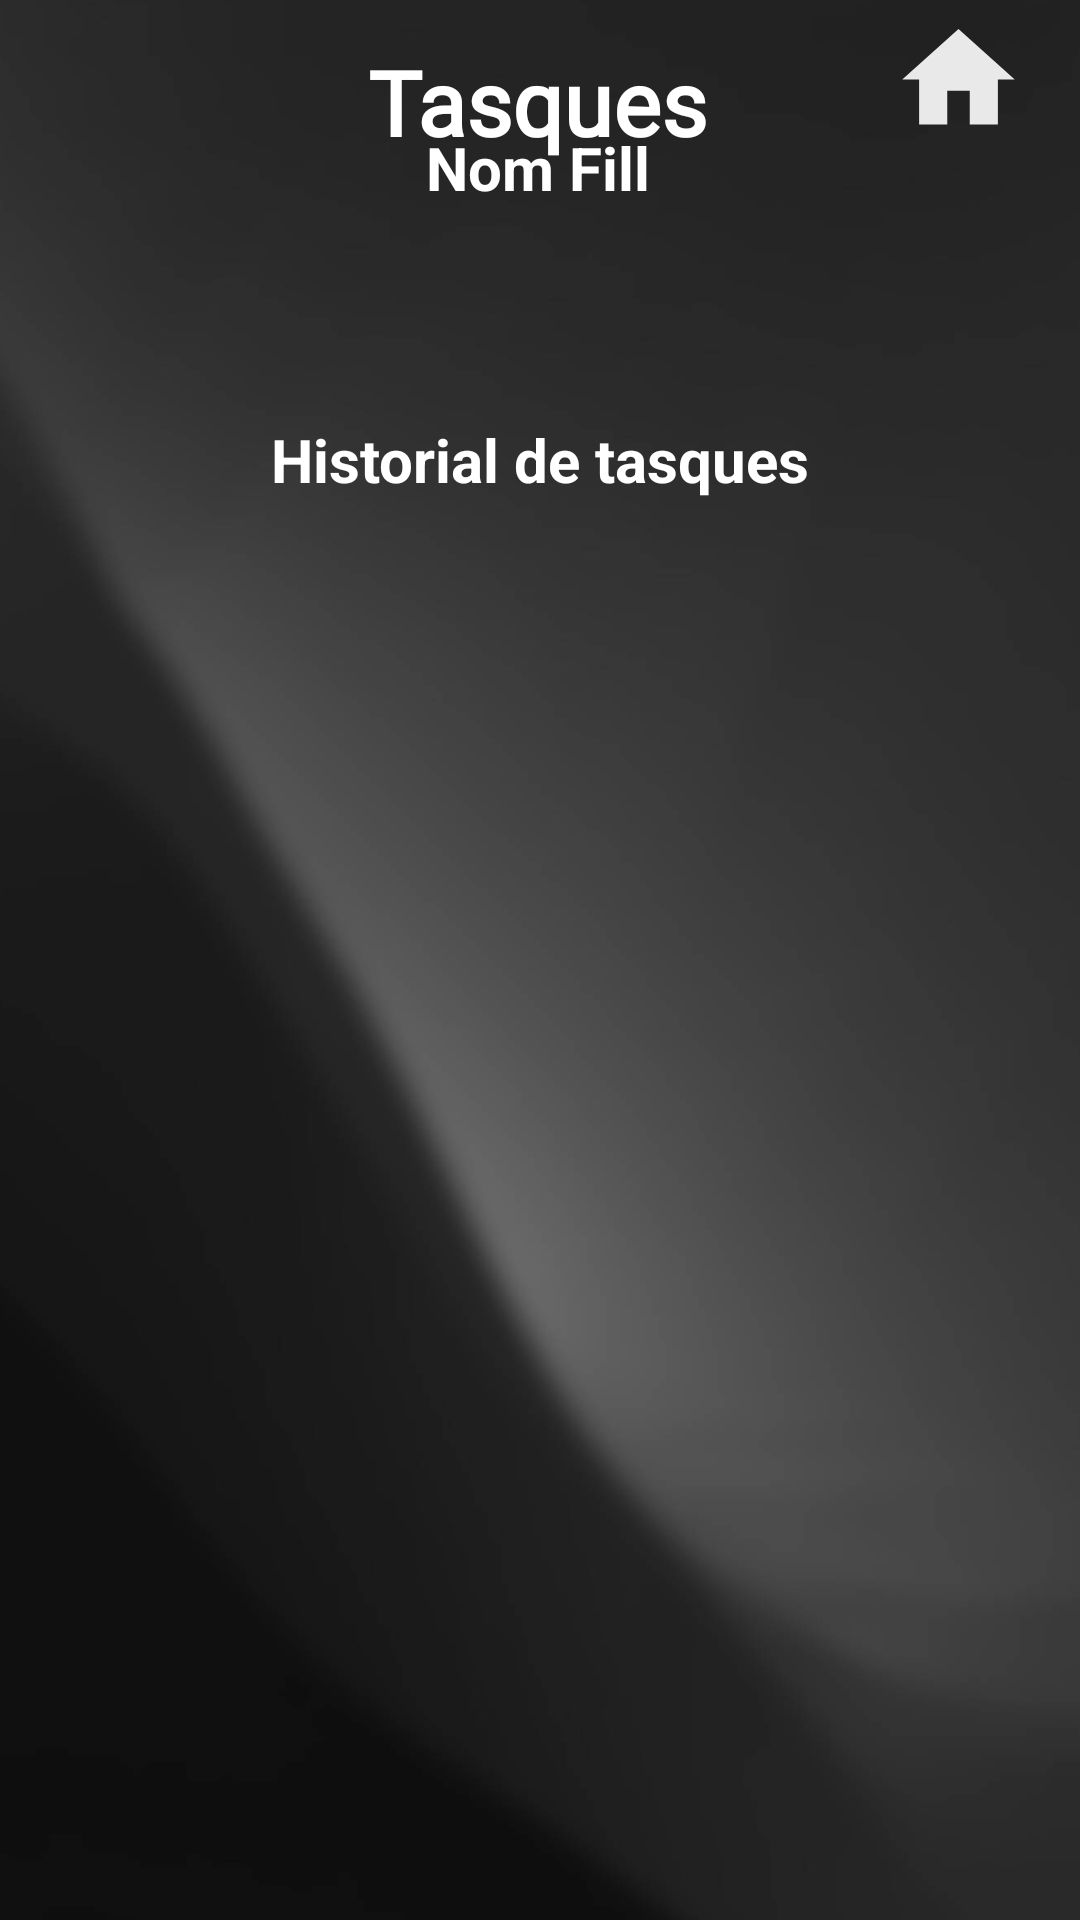

Where icons sit on this 1080*1920 app screen, as [x1=x1, y1=y1, x2=x2, y2=y2]:
home: [x1=902, y1=29, x2=1015, y2=125]
